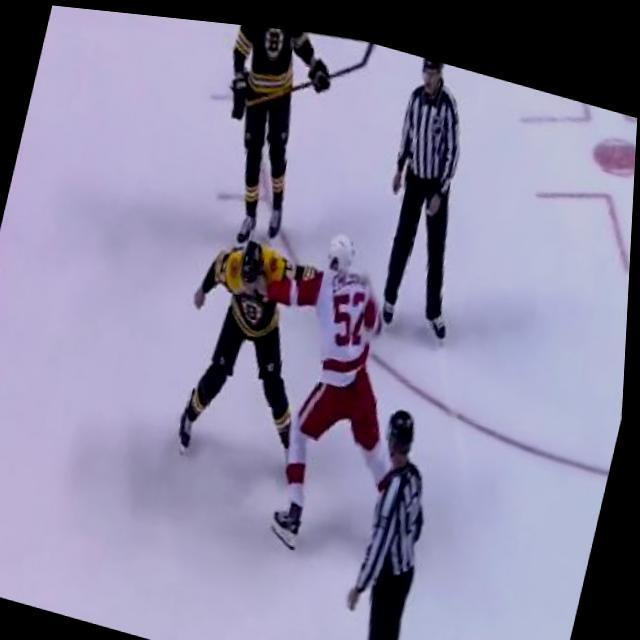fight: (136, 179, 432, 575)
non-fight: (400, 42, 475, 332), (388, 399, 460, 640)
